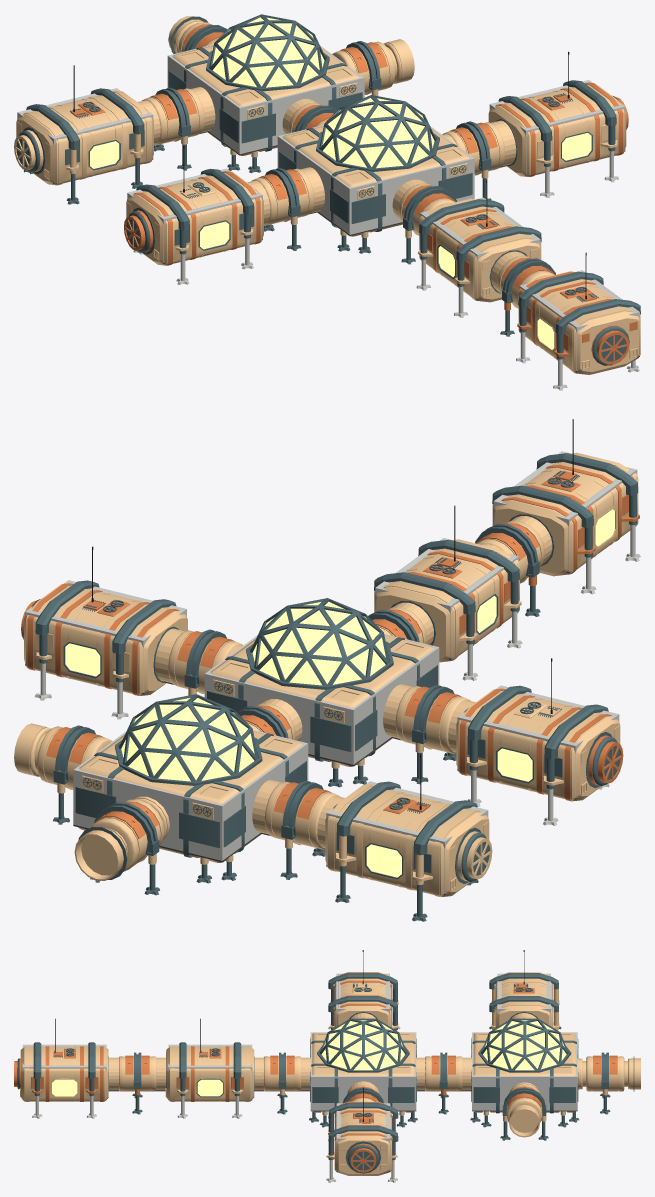
The model's file is colony_large.fbx.
3 renders of one model, top to bottom at view 1: azimuth 30°, elevation 25°; view 2: azimuth 150°, elevation 25°; view 3: azimuth 270°, elevation 25°, orthographic. The views are drawn at different scales.
Parts seen in each view (by area): view 1: Large.H2.Icosphere.002, Large.H1.Icosphere, Large.H1.Liner, Large.H2.Liner, Large.MB.Cube.030, Large.MA.Cube, Large.ME.Cube.076, Large.MC.Cube.045, Large.MD.Cube.060, Large.H1.Cube.001, Large.H2.Cube.022, Large.H1.Cube.017 (+31 smaller); view 2: Large.H1.Liner, Large.H2.Liner, Large.H2.Icosphere.002, Large.H1.Icosphere, Large.MA.Cube, Large.MC.Cube.045, Large.MB.Cube.030, Large.ME.Cube.076, Large.MD.Cube.060, Large.H2.Cube.022, Large.H1.Cube.001, Large.S_H2_Y.Cylinder.040 (+33 smaller); view 3: Large.H2.Icosphere.002, Large.H1.Icosphere, Large.H2.Liner, Large.H1.Liner, Large.MD.Cube.060, Large.ME.Cube.076, Large.MA.Cube, Large.H2.Cube.022, Large.H1.Cube.001, Large.S_H2_Y.Cylinder.040, Large.MB.Cube.030, Large.MC.Cube.045 (+22 smaller).
Part boxes in pixels (x1,y1,x2,y2): Large.H2.Icosphere.002: (209,14,326,87); Large.H1.Icosphere: (319,95,436,168); Large.H1.Liner: (277,95,474,235); Large.H2.Liner: (167,14,364,155); Large.MB.Cube.030: (126,171,263,265); Large.MA.Cube: (488,82,626,176); Large.ME.Cube.076: (518,271,640,374); Large.MC.Cube.045: (16,91,153,185); Large.MD.Cube.060: (419,198,541,302); Large.H1.Cube.001: (282,126,469,253); Large.H2.Cube.022: (172,45,359,173); Large.H1.Cube.017: (279,151,472,223); Large.H1.Liner: (204,599,439,766); Large.H2.Liner: (73,694,308,862); Large.H2.Icosphere.002: (119,694,258,781); Large.H1.Icosphere: (250,598,389,685); Large.MA.Cube: (24,583,187,695); Large.MC.Cube.045: (325,784,489,896); Large.MB.Cube.030: (456,688,620,801); Large.ME.Cube.076: (492,452,638,576); Large.MD.Cube.060: (374,539,519,662); Large.H2.Cube.022: (78,731,302,883); Large.H1.Cube.001: (210,635,433,787); Large.S_H2_Y.Cylinder.040: (74,796,169,880); Large.H2.Icosphere.002: (481,1018,568,1070); Large.H1.Icosphere: (320,1018,405,1070); Large.H2.Liner: (472,1018,577,1111); Large.H1.Liner: (310,1018,416,1111); Large.MD.Cube.060: (166,1046,254,1101); Large.ME.Cube.076: (20,1046,108,1101); Large.MA.Cube: (335,1101,391,1175); Large.H2.Cube.022: (470,1033,579,1127); Large.H1.Cube.001: (309,1033,417,1127); Large.S_H2_Y.Cylinder.040: (577,1056,640,1091); Large.MB.Cube.030: (334,972,391,1027); Large.MC.Cube.045: (495,972,552,1027).
Bounding box in the file's own units: 6539 × 1493 × 9940.
